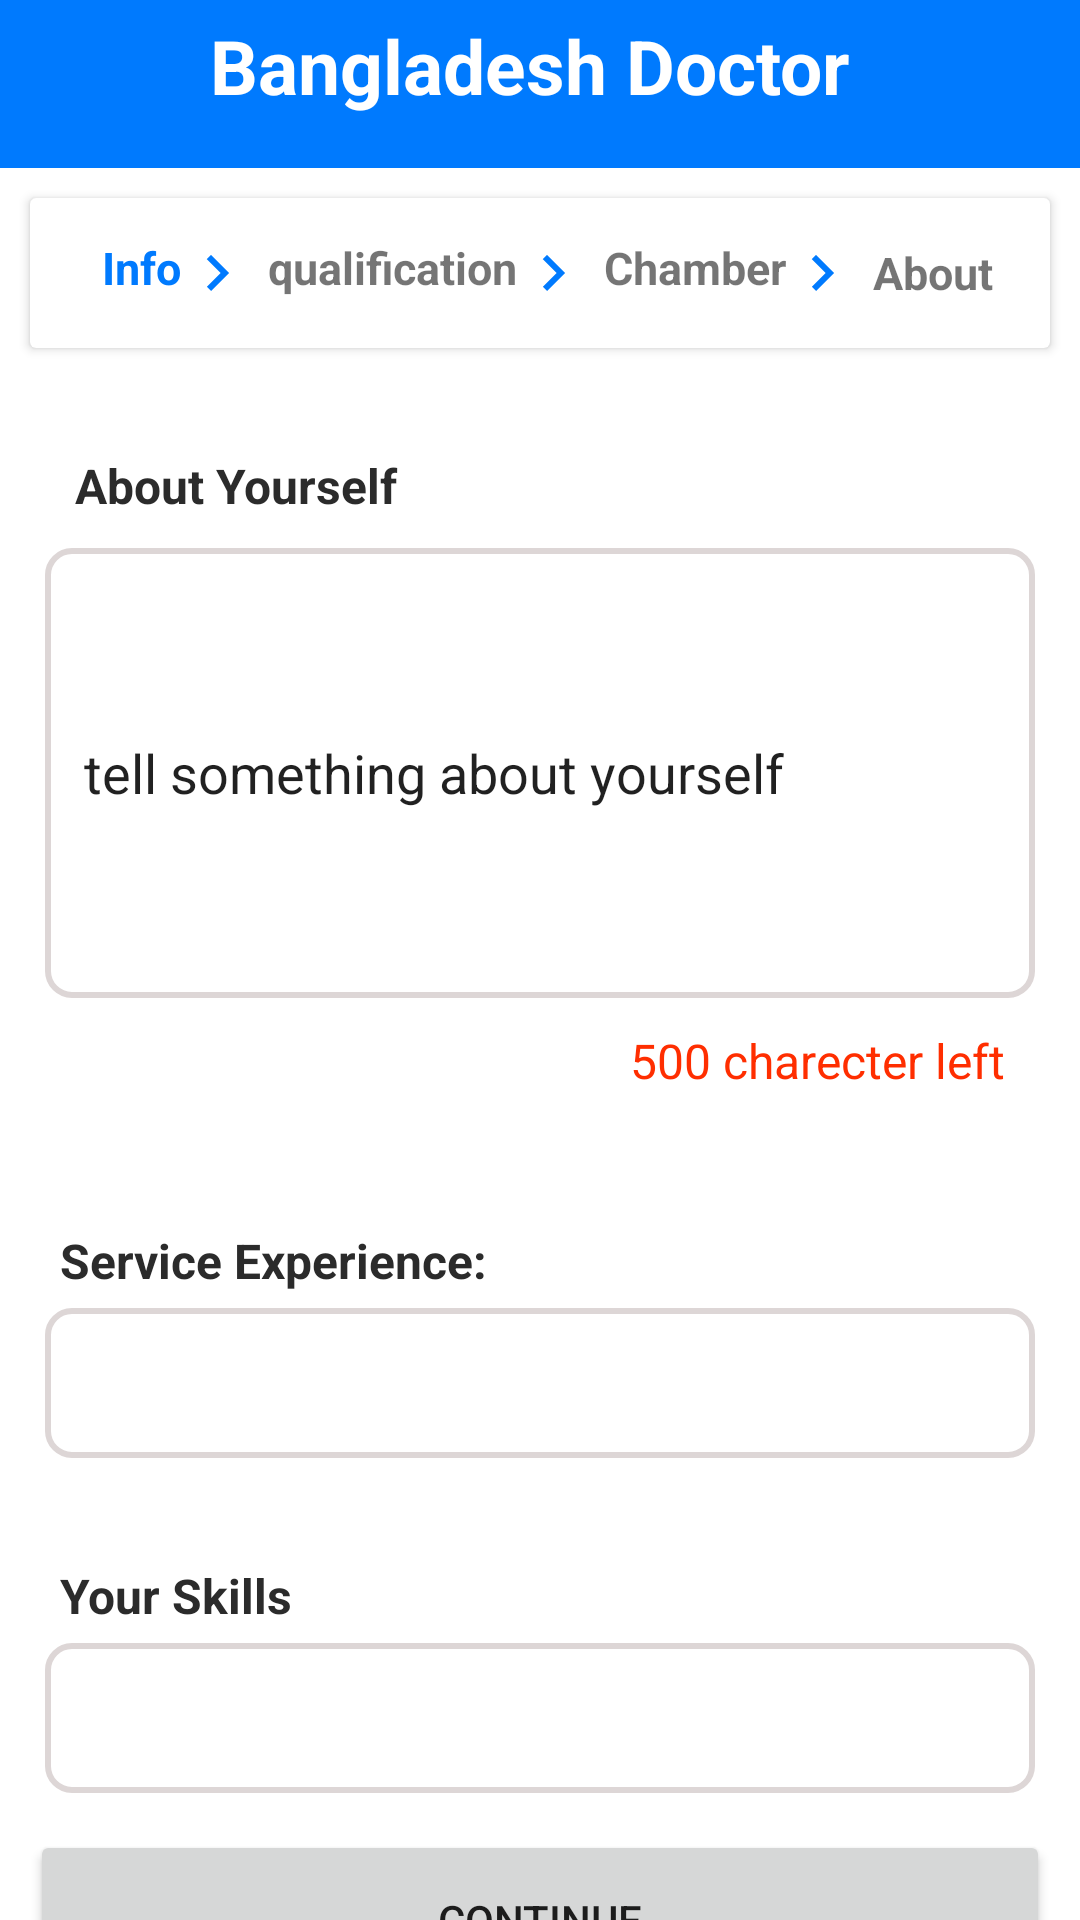

Locate icon controls on the screen. Image size 1080x1920, boxes as box(x1, y1, x2, y2).
keyboard arrow right: box(207, 255, 229, 291), box(543, 255, 565, 291), box(812, 255, 834, 291)
